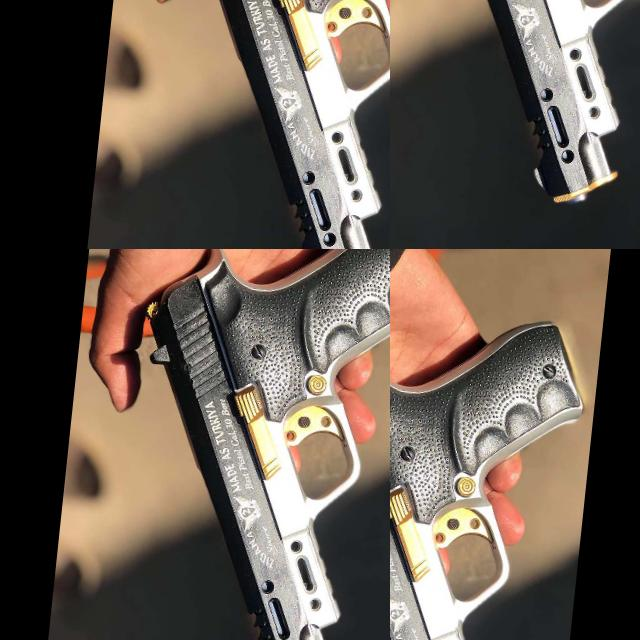handgun: (390, 288, 597, 640), (42, 398, 237, 640), (234, 40, 302, 152), (430, 123, 492, 235)
